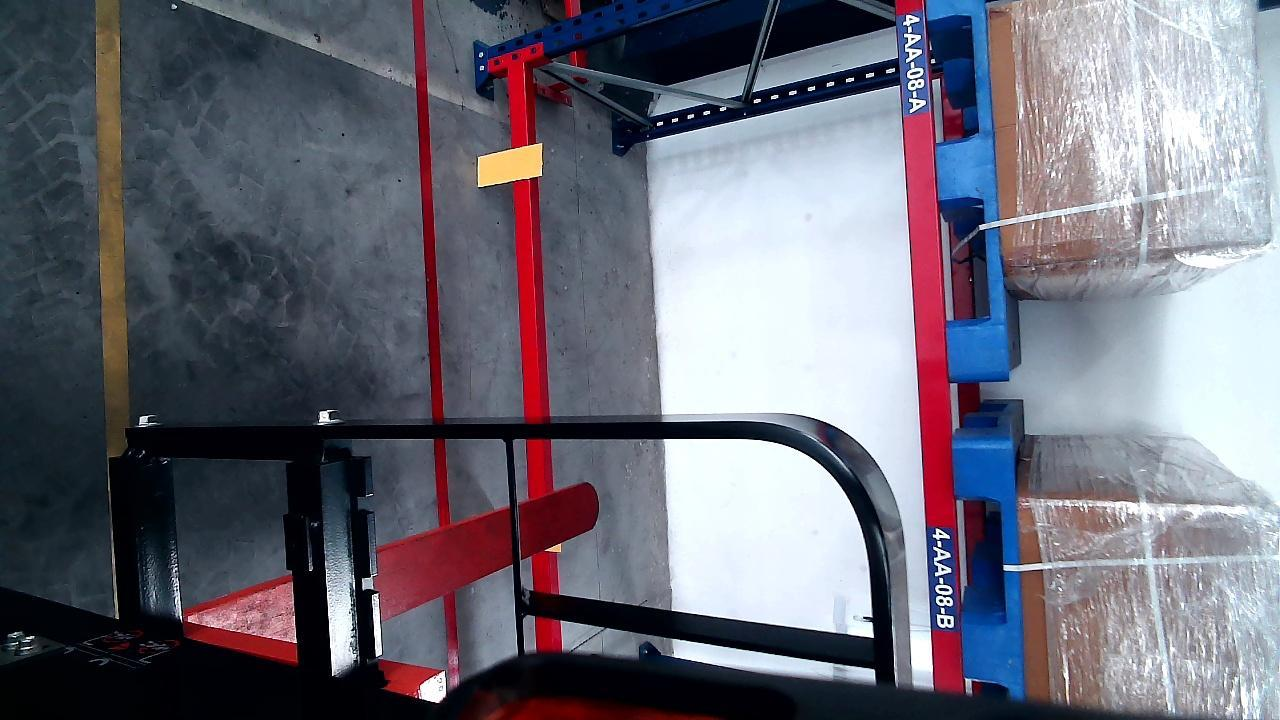red_line: (414, 0, 450, 543)
